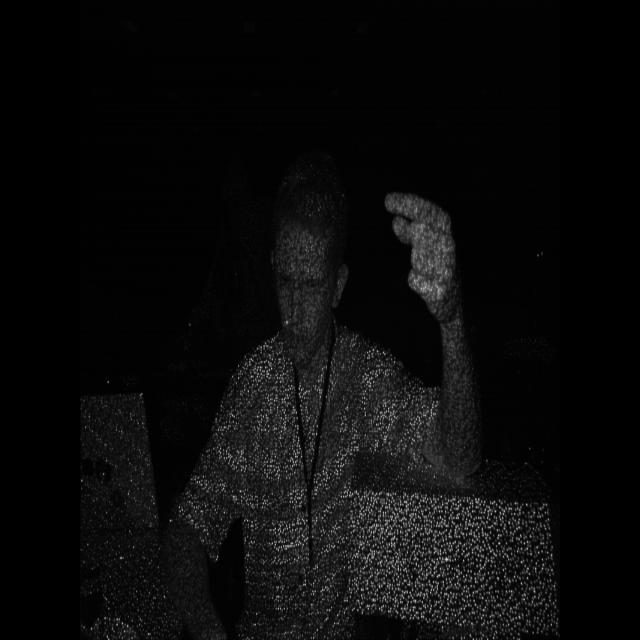G: (382, 175, 490, 342)
